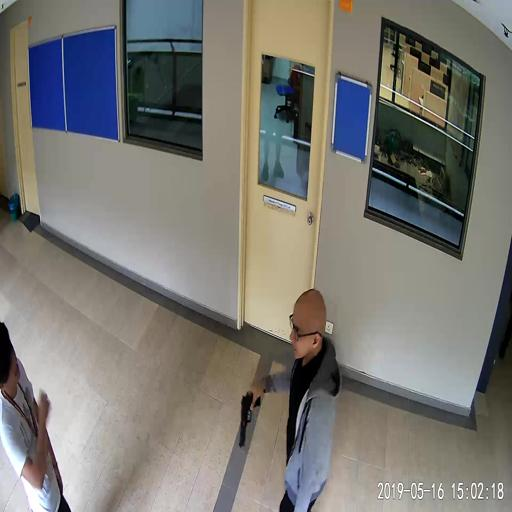pistol: (239, 392, 261, 448)
